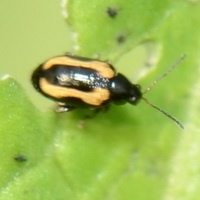insect: (32, 55, 183, 128)
